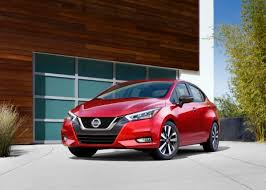Nissan: (66, 82, 209, 147)
